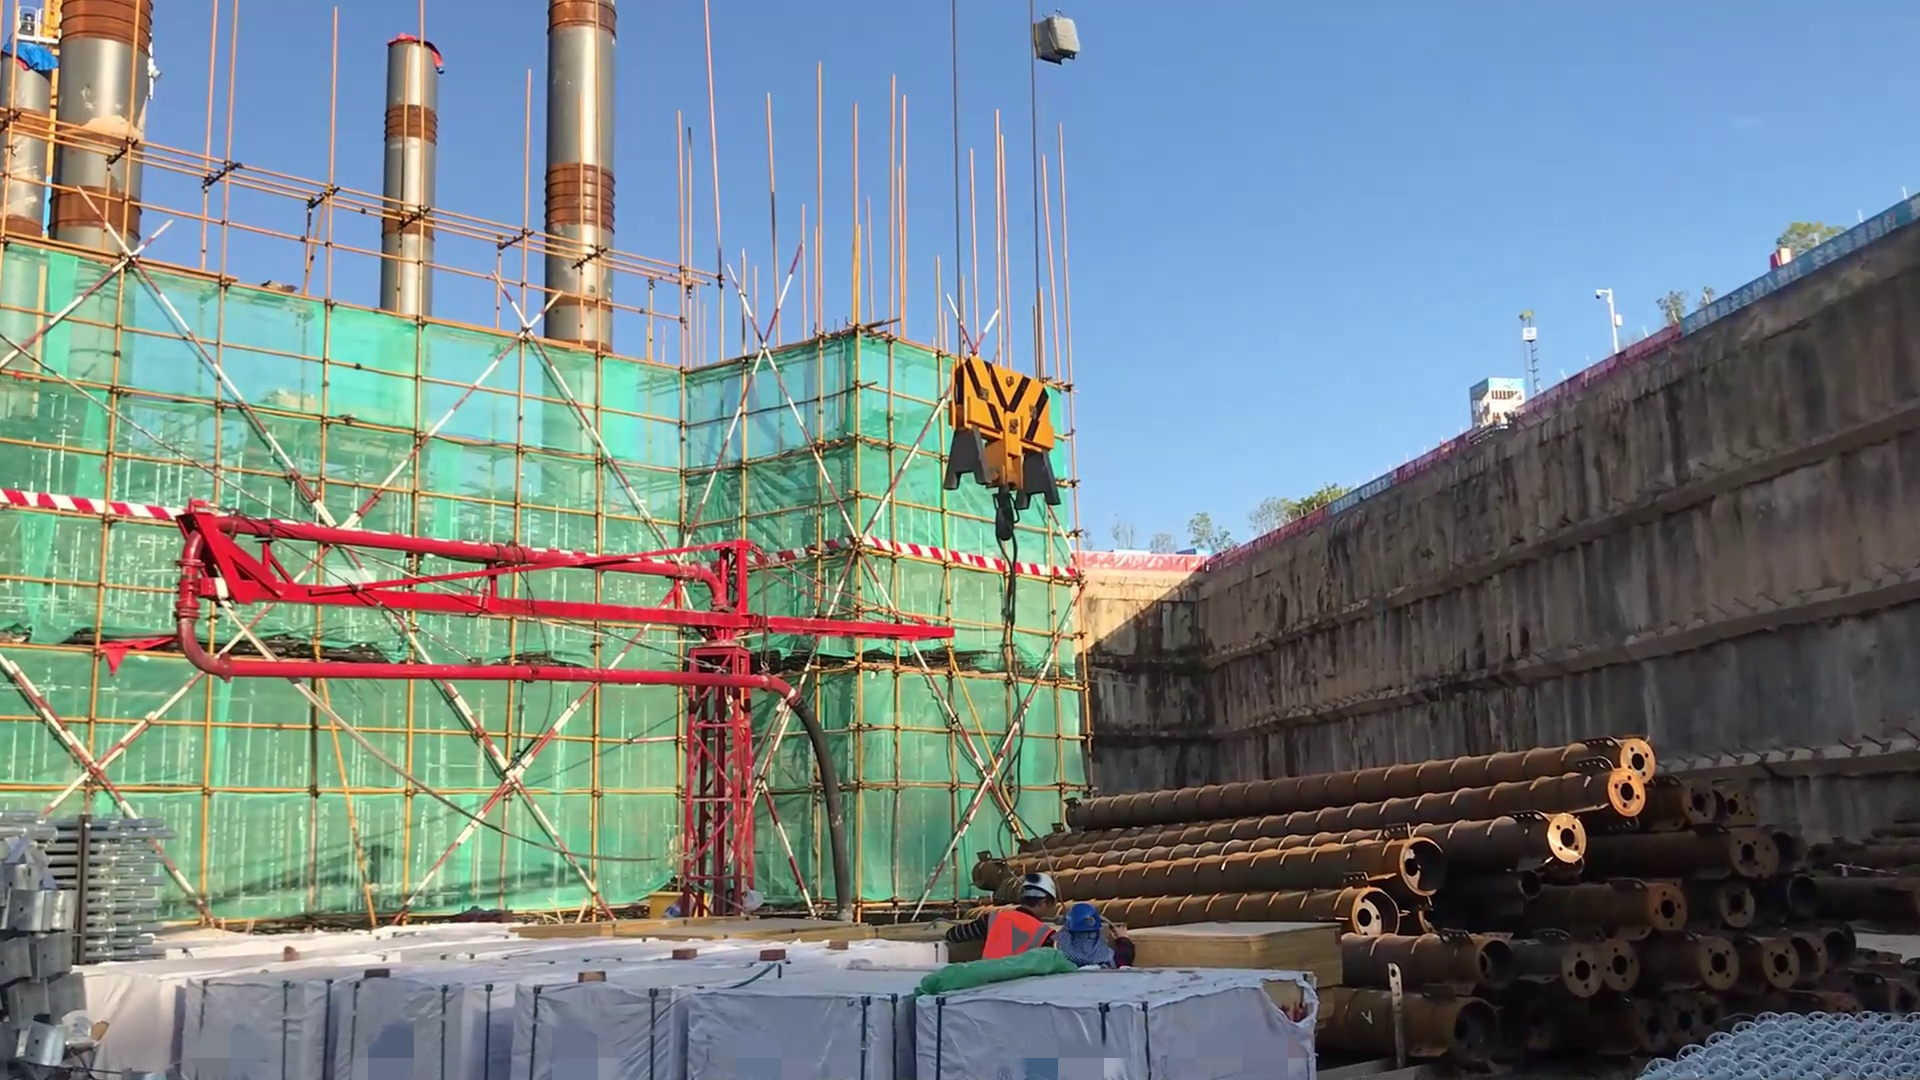board: (1115, 919, 1356, 1001)
ebox: (643, 885, 709, 927)
helmet: (1063, 887, 1111, 956), (1006, 873, 1058, 930)
hook: (929, 357, 1070, 545)
person: (940, 871, 1063, 982), (1056, 900, 1143, 989)
scaffold: (1634, 994, 1920, 1079), (44, 798, 170, 969)
slogan: (1680, 187, 1920, 339), (1325, 467, 1402, 514)
vest: (974, 906, 1060, 962)
